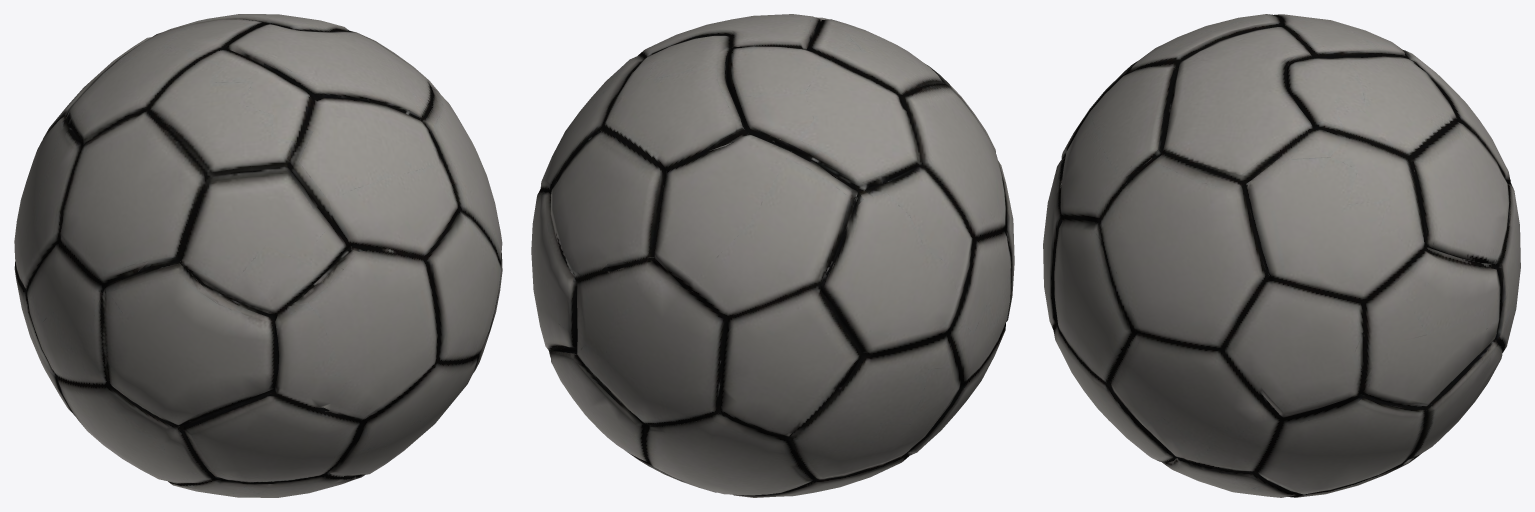
File: ball.glb
The picture shows the model from 3 angles, left to right: view 1: azimuth 30°, elevation 25°; view 2: azimuth 150°, elevation 25°; view 3: azimuth 270°, elevation 25°; orthographic projection.
Parts seen in each view (by area): view 1: tripo_node_3f39dac8-9607-4019-bf0b-1c8a994130fb; view 2: tripo_node_3f39dac8-9607-4019-bf0b-1c8a994130fb; view 3: tripo_node_3f39dac8-9607-4019-bf0b-1c8a994130fb.
Part boxes in pixels (<box>): tripo_node_3f39dac8-9607-4019-bf0b-1c8a994130fb: <box>14,14,502,497</box>; tripo_node_3f39dac8-9607-4019-bf0b-1c8a994130fb: <box>531,14,1014,497</box>; tripo_node_3f39dac8-9607-4019-bf0b-1c8a994130fb: <box>1043,14,1520,497</box>.
Size of the model in its own units: 0.998 by 0.998 by 0.998.
1 material, 1 textured.
